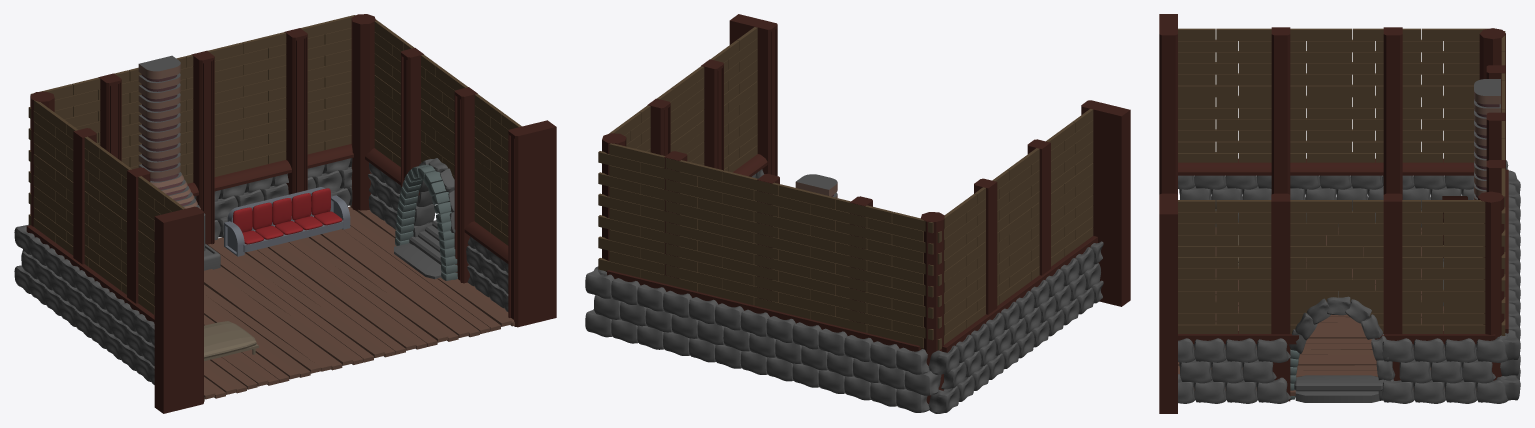
Rendered from 1_level1.fbx.
3 views of the same model, side by side, from view 1: azimuth 30°, elevation 25°; view 2: azimuth 150°, elevation 25°; view 3: azimuth 270°, elevation 25° (orthographic). The views are drawn at different scales.
Visible parts, largest first — view 1: wall wood, Floor, Door, Kamin, Divan, Cube.001; view 2: wall wood, Kamin; view 3: wall wood, Door, Floor, Kamin.
Part boxes in pixels (<box>): wall wood: <box>14,14,556,413</box>; Floor: <box>204,205,514,401</box>; Door: <box>394,158,457,280</box>; Kamin: <box>138,55,220,270</box>; Divan: <box>224,187,350,256</box>; Cube.001: <box>204,321,258,360</box>; wall wood: <box>585,14,1130,413</box>; Kamin: <box>795,174,837,197</box>; wall wood: <box>1159,14,1520,413</box>; Door: <box>1289,291,1395,402</box>; Floor: <box>1178,227,1476,395</box>; Kamin: <box>1443,79,1500,306</box>.
Bounding box in the file's own units: 1400 × 686 × 1067.
